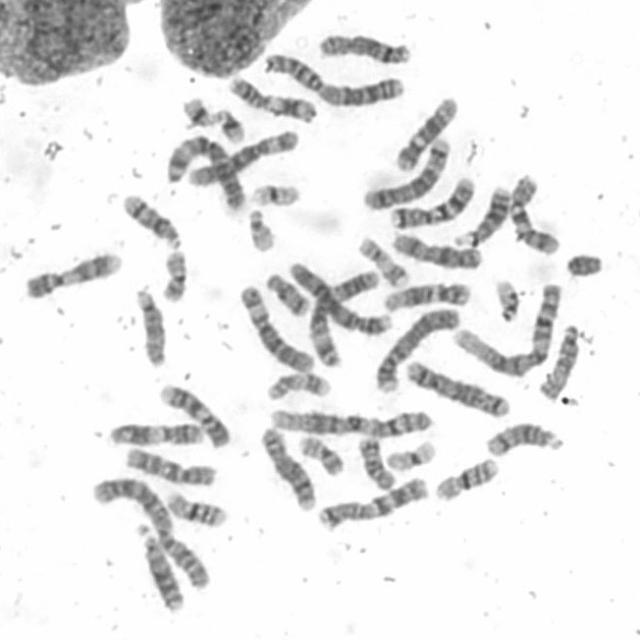A1: (446, 279, 564, 379), (265, 403, 435, 439)
A2: (87, 473, 213, 591), (260, 49, 407, 108)
A3: (305, 264, 381, 368), (163, 135, 242, 212)
B4: (371, 302, 463, 395), (284, 257, 392, 336)
B5: (360, 133, 453, 213), (402, 357, 512, 419)
C10: (506, 170, 562, 256), (122, 442, 217, 488)
C11: (224, 72, 318, 124), (104, 418, 205, 448)
C12: (391, 92, 458, 173), (379, 278, 472, 313)
C6: (184, 125, 302, 189), (236, 281, 316, 373)
C7: (314, 473, 430, 531), (386, 173, 477, 231)
C8: (257, 423, 317, 513), (315, 29, 411, 66)
C9: (20, 246, 126, 301), (157, 379, 232, 448)
D13: (134, 520, 186, 613), (450, 180, 512, 247)
D14: (119, 190, 182, 250), (483, 419, 563, 458)
D15: (534, 320, 581, 402), (131, 284, 169, 369)
E16: (430, 454, 501, 504), (162, 487, 230, 529)
E17: (354, 233, 410, 289), (262, 369, 333, 402)
E18: (354, 434, 398, 492), (262, 268, 311, 318)
F19: (383, 437, 439, 473), (248, 179, 302, 209)
F20: (296, 430, 346, 478), (158, 246, 189, 303)
G21: (179, 93, 218, 129), (212, 105, 246, 145)
G22: (490, 274, 522, 324), (245, 205, 278, 252)
X: (388, 228, 485, 272)
Y: (562, 249, 604, 279)
